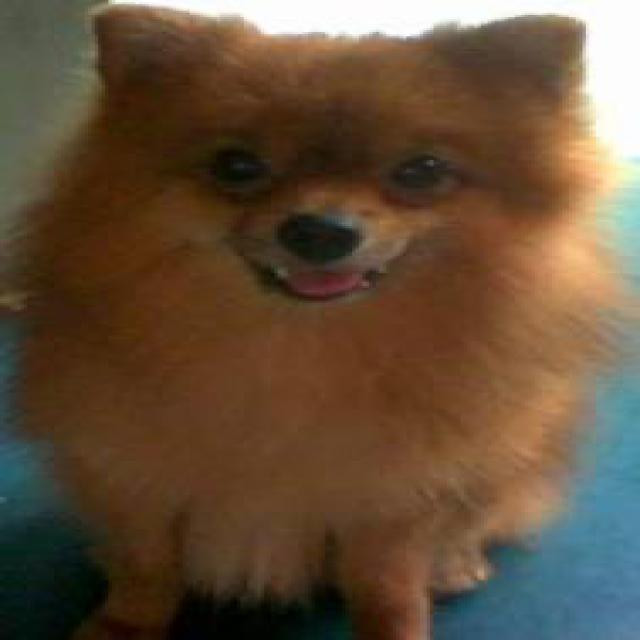dog: (85, 4, 582, 307)
